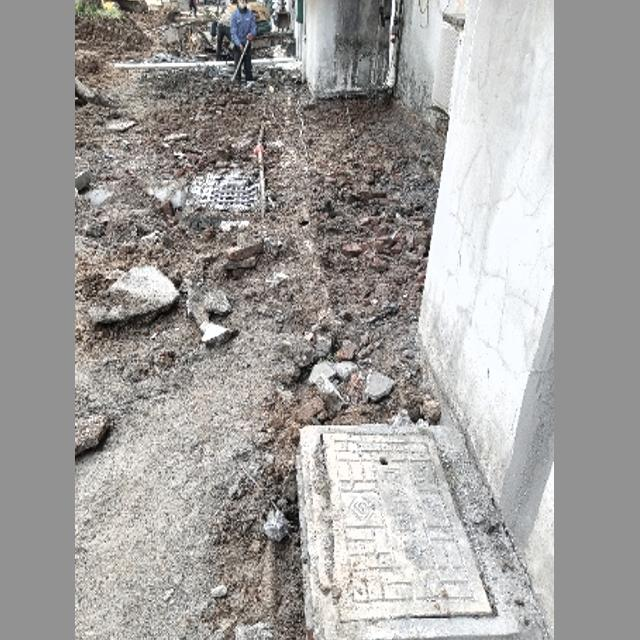good: (301, 422, 521, 636)
